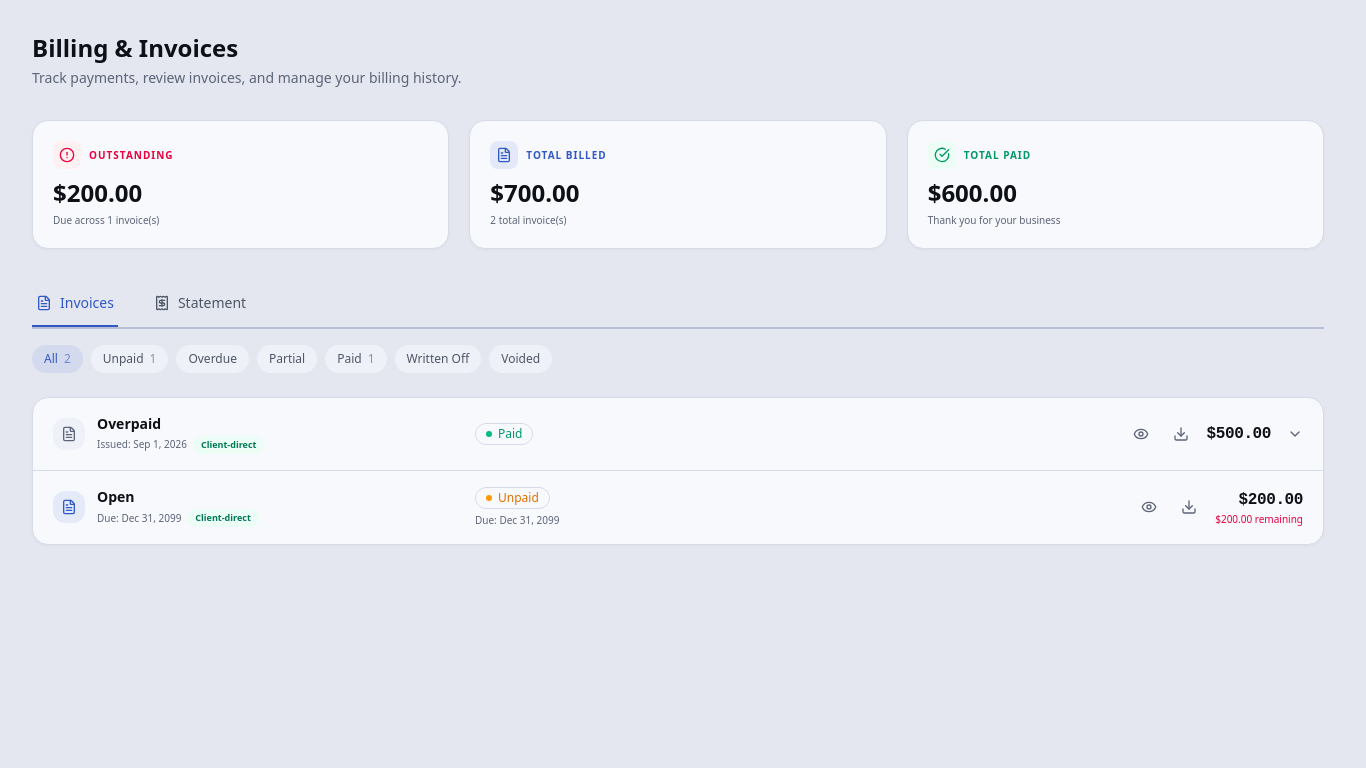
portal statement footer › shows the ledger's final running balance, not the clamped summary
Click the button "Statement": click(200, 304) [150,281,250,327]
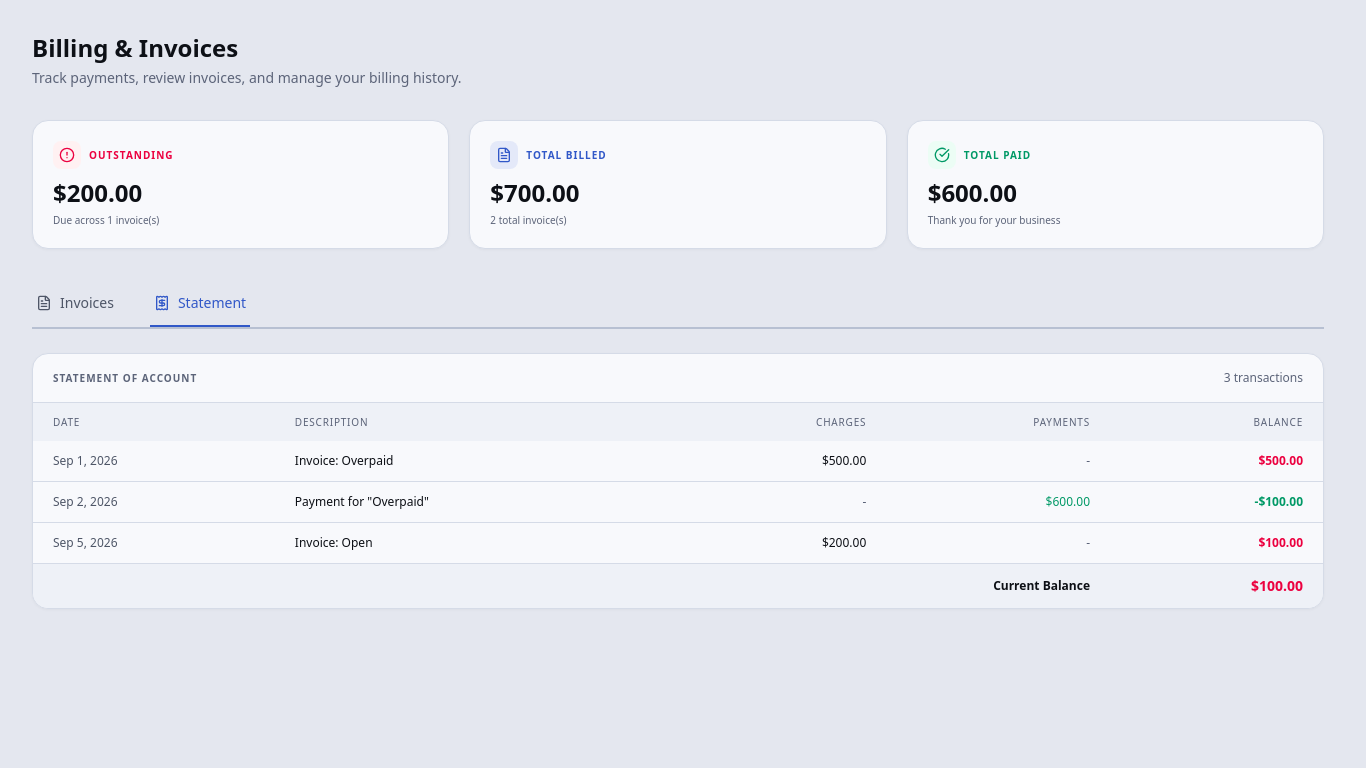
Expected: the cell "$100.00" in the row of "Sep 5, 2026" is shown, [1258,534,1303,551]
